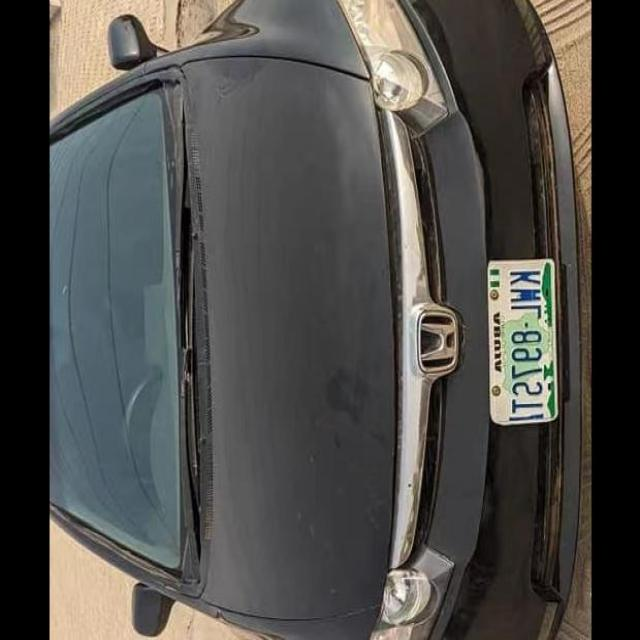Nigerian License Plate - vdataset benjamin-daria: (482, 256, 563, 428)
